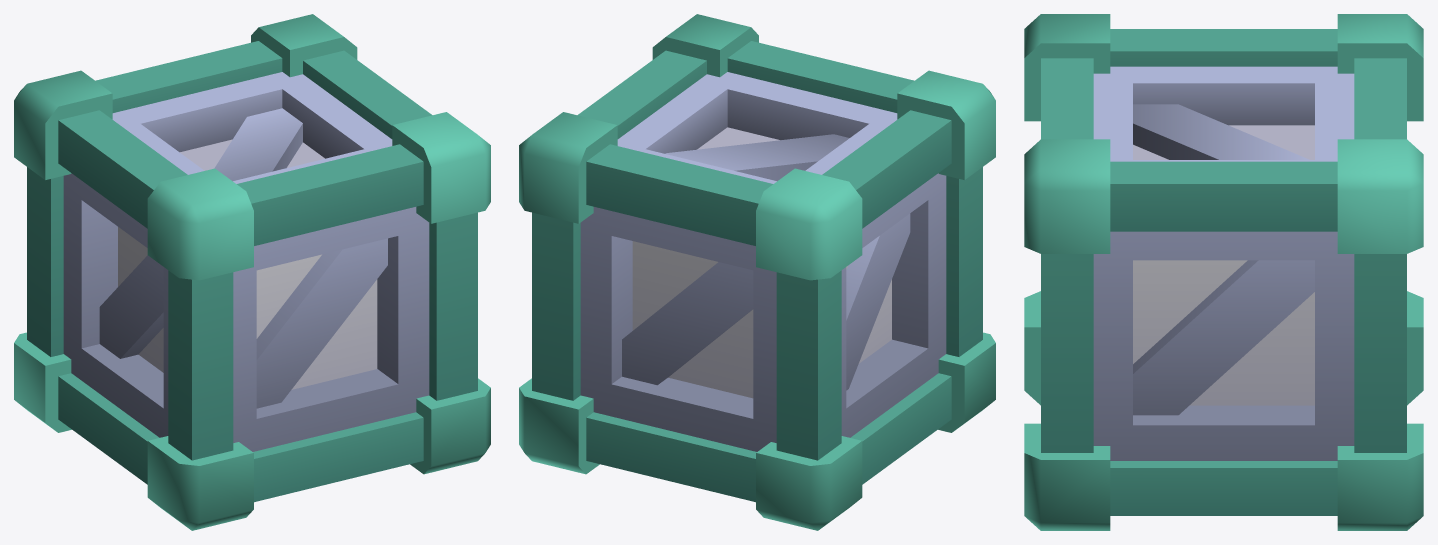
Rendered from crate-strong.glb.
3 views of the same model, side by side, from view 1: azimuth 30°, elevation 25°; view 2: azimuth 150°, elevation 25°; view 3: azimuth 270°, elevation 25° (orthographic). The views are drawn at different scales.
Visible parts, largest first — view 1: crate-strong; view 2: crate-strong; view 3: crate-strong.
Boxes of the visible parts, x1,y1,x2,y2 form: crate-strong: [14, 14, 490, 530]; crate-strong: [519, 14, 995, 530]; crate-strong: [1024, 14, 1423, 530].
Bounding box in the file's own units: 0.6 × 0.6 × 0.6.
